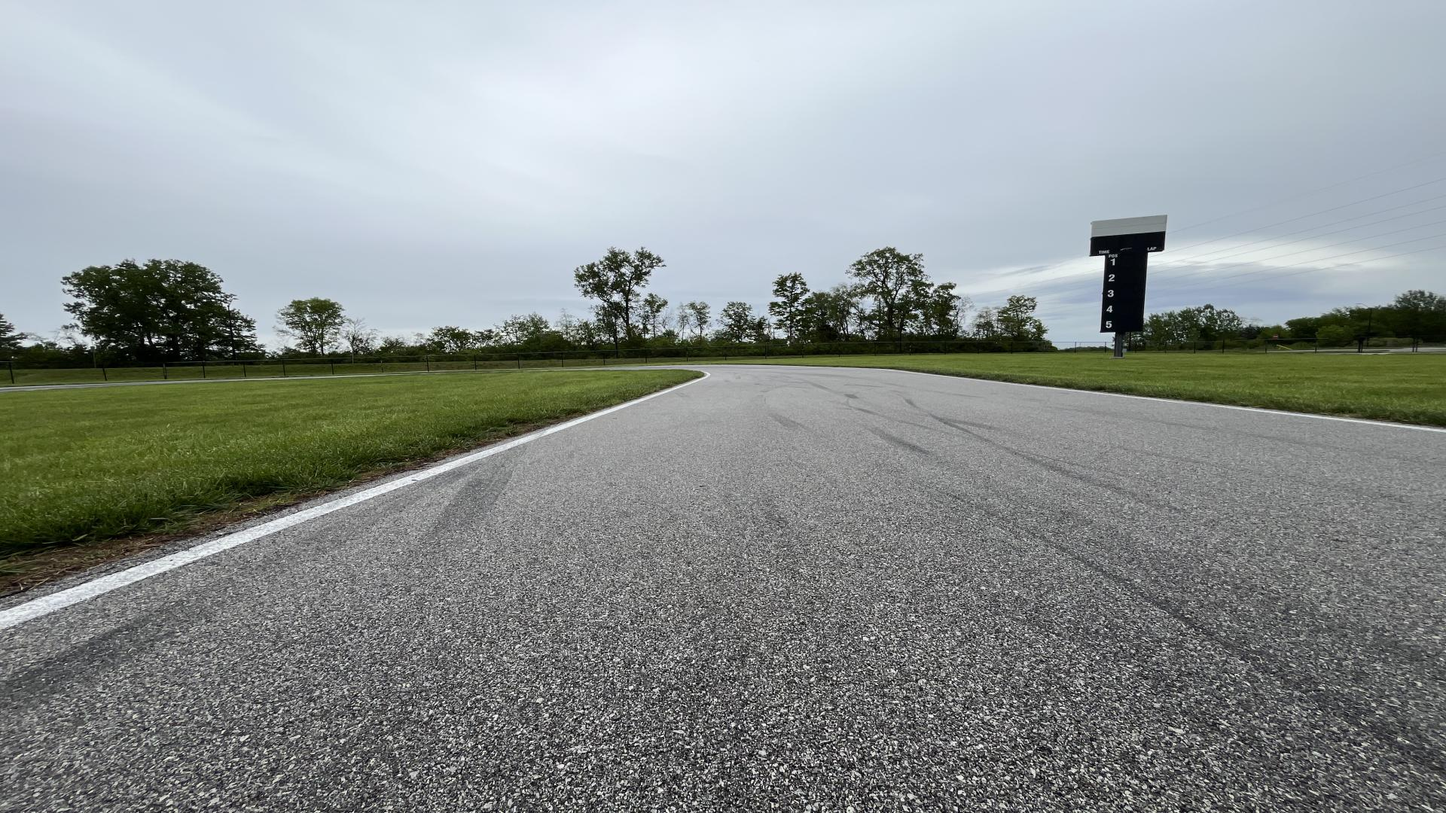white-line: (0, 368, 711, 626), (698, 364, 1445, 434)
